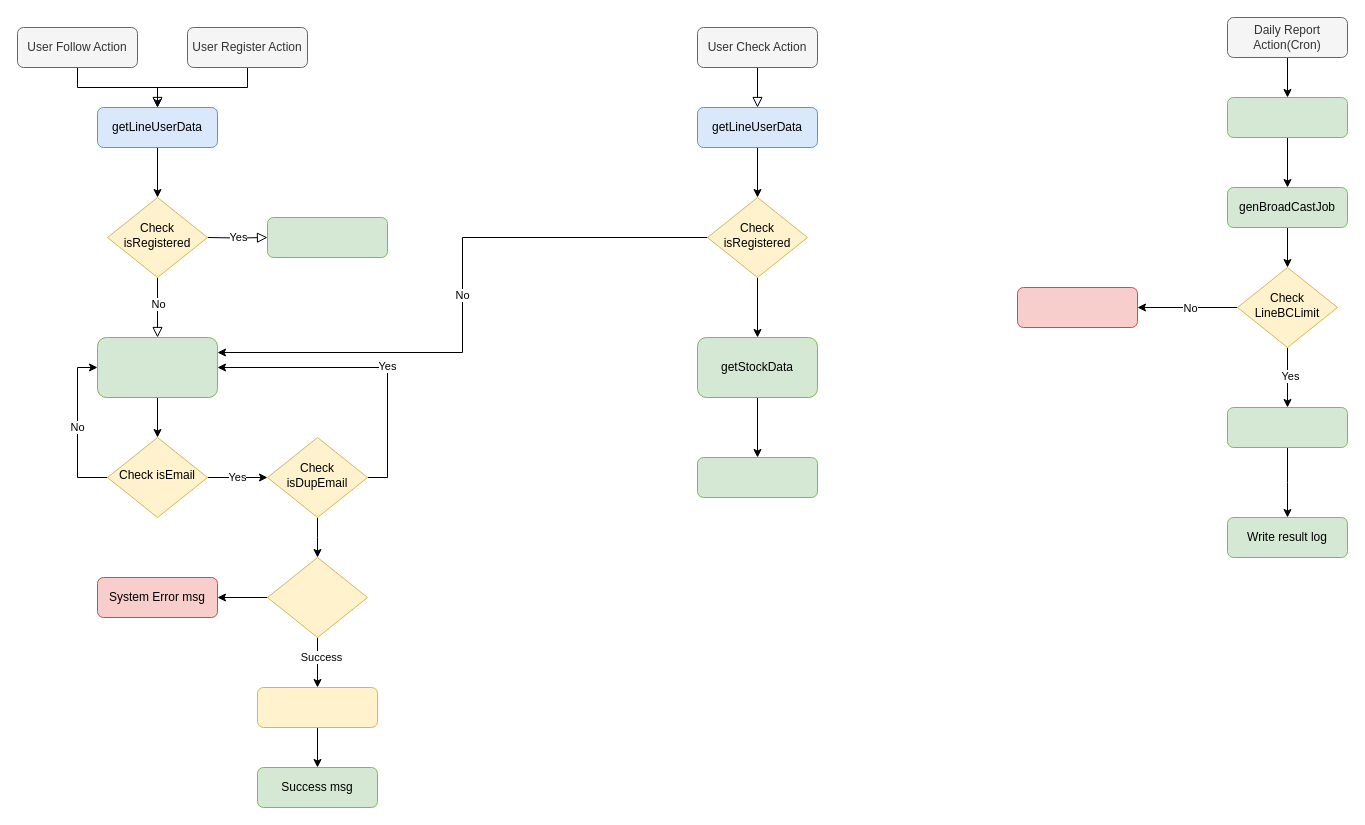
This 1365x825 diagram has some shape labels left out. Each missing label, with the box of its shape:
fireBoardcastAPI: (1226, 406, 1348, 448)
getLowerStockItem: (1226, 96, 1348, 138)
getUserData: (256, 686, 378, 728)
insertNewUser: (266, 556, 368, 638)
Report msg: (696, 456, 818, 498)
Request Email msg: (96, 336, 218, 398)
Welcome msg: (266, 216, 388, 258)
Write error log: (1016, 286, 1138, 328)
